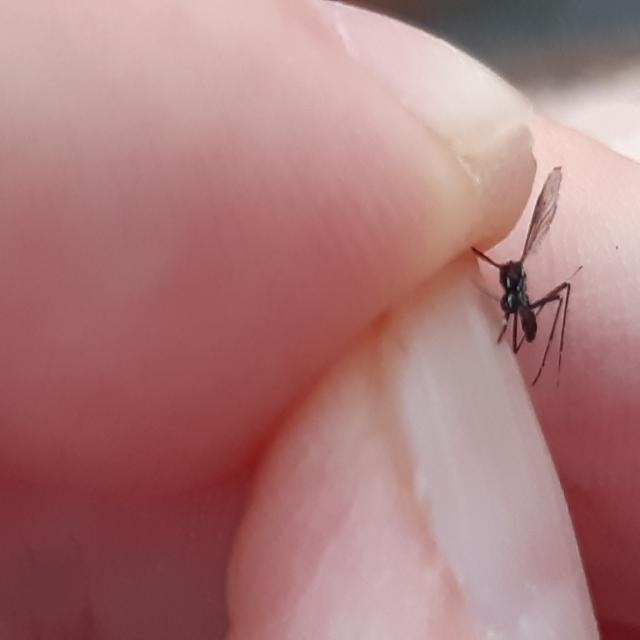albopictus: (460, 157, 588, 384)
